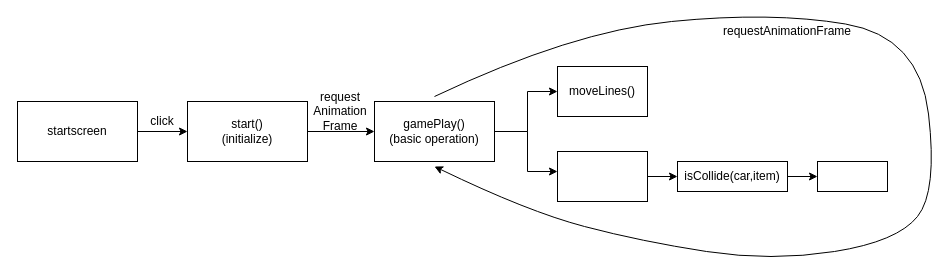
Some shapes in this 949 by 275 pixel diagram are drawn without their labels. The centre of each missing label's shape, as x and y in pixels:
"endGame()" goes at point (852, 176).
"moveCar(car)" goes at point (602, 176).
